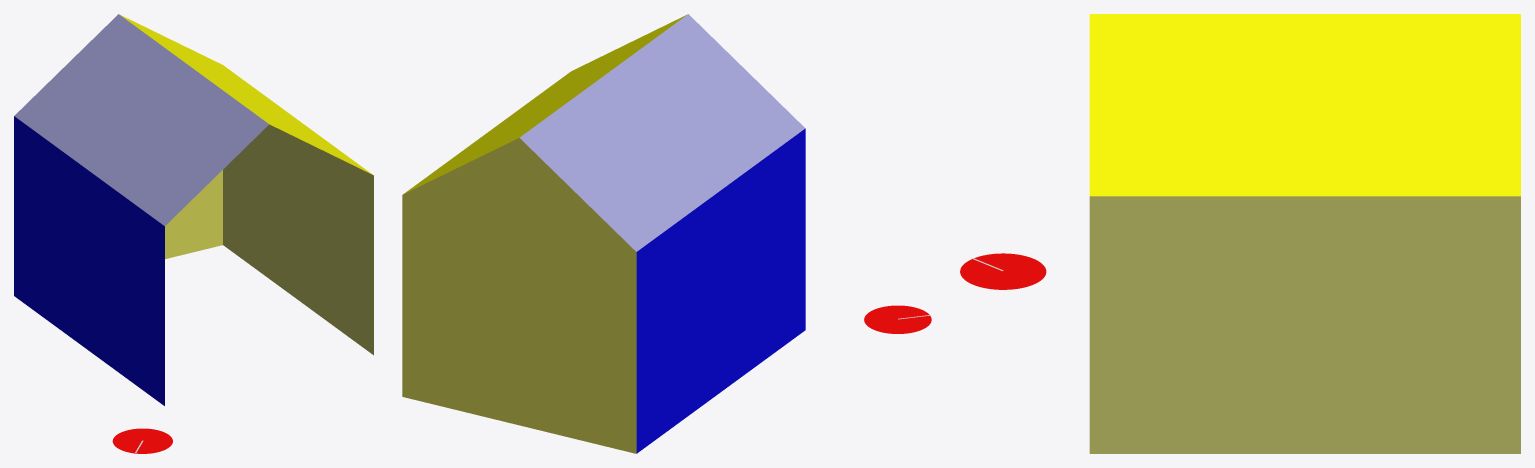
File: result.glb
3 views of the same model, side by side, from view 1: azimuth 30°, elevation 25°; view 2: azimuth 150°, elevation 25°; view 3: azimuth 270°, elevation 25° (orthographic). The views are drawn at different scales.
Parts seen in each view (by area): view 1: cf00ecf5-962e-4772-8c8e-da37f7921f96__undefined, 6a811259-57a9-4056-8352-cb0c288745fb__undefined, 80e0a60f-5eda-4a16-a939-4fa073919156__undefined, b85caed1-aeec-4190-b6bb-8328bf06d872__undefined, ed1c8739-a237-4534-86de-bae675be25c0__undefined, 32d70851-af12-43b3-aea1-a195fea054b0__Circle; view 2: ed1c8739-a237-4534-86de-bae675be25c0__undefined, cf00ecf5-962e-4772-8c8e-da37f7921f96__undefined, 6a811259-57a9-4056-8352-cb0c288745fb__undefined, b85caed1-aeec-4190-b6bb-8328bf06d872__undefined, 32d70851-af12-43b3-aea1-a195fea054b0__Circle; view 3: 80e0a60f-5eda-4a16-a939-4fa073919156__undefined, b85caed1-aeec-4190-b6bb-8328bf06d872__undefined, 32d70851-af12-43b3-aea1-a195fea054b0__Circle.
Part boxes in pixels (x1,y1,x2,y2): cf00ecf5-962e-4772-8c8e-da37f7921f96__undefined: [14, 116, 164, 405]; 6a811259-57a9-4056-8352-cb0c288745fb__undefined: [14, 14, 268, 225]; 80e0a60f-5eda-4a16-a939-4fa073919156__undefined: [223, 124, 373, 355]; b85caed1-aeec-4190-b6bb-8328bf06d872__undefined: [119, 14, 372, 174]; ed1c8739-a237-4534-86de-bae675be25c0__undefined: [165, 170, 222, 258]; 32d70851-af12-43b3-aea1-a195fea054b0__Circle: [112, 428, 172, 453]; ed1c8739-a237-4534-86de-bae675be25c0__undefined: [402, 138, 636, 453]; cf00ecf5-962e-4772-8c8e-da37f7921f96__undefined: [636, 128, 805, 453]; 6a811259-57a9-4056-8352-cb0c288745fb__undefined: [519, 14, 805, 251]; b85caed1-aeec-4190-b6bb-8328bf06d872__undefined: [403, 14, 687, 194]; 32d70851-af12-43b3-aea1-a195fea054b0__Circle: [864, 305, 931, 333]; 80e0a60f-5eda-4a16-a939-4fa073919156__undefined: [1089, 196, 1520, 453]; b85caed1-aeec-4190-b6bb-8328bf06d872__undefined: [1089, 14, 1520, 196]; 32d70851-af12-43b3-aea1-a195fea054b0__Circle: [960, 253, 1046, 289].
Size of the model in its own units: 550 by 469 by 650.
